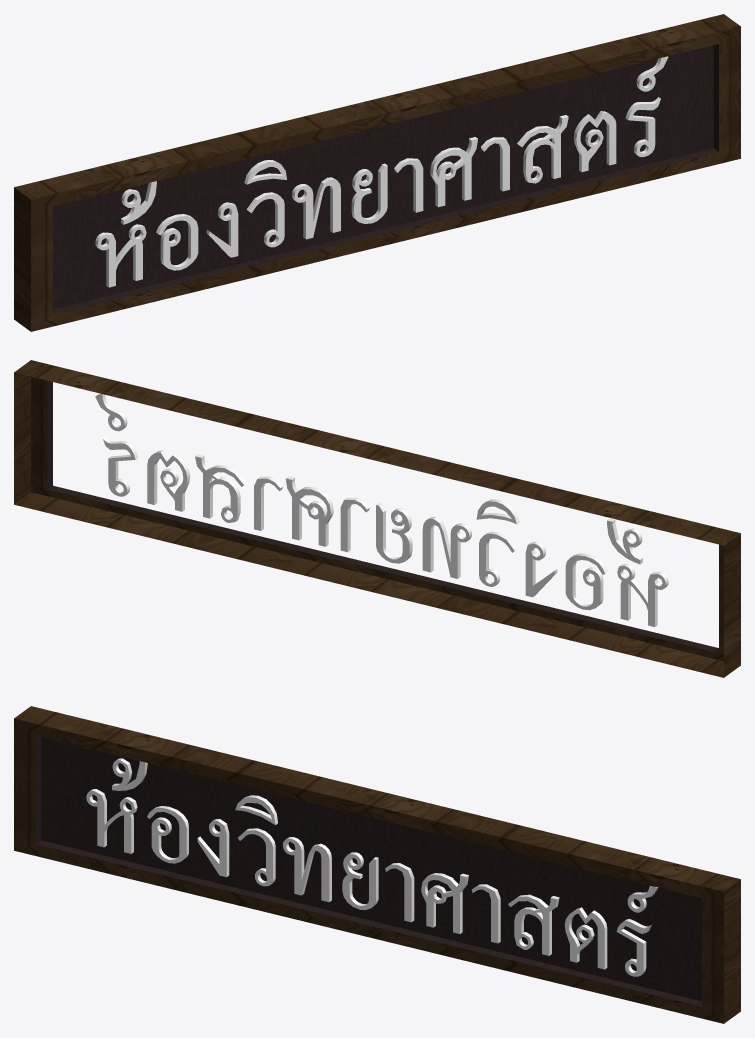
File: _sci_sign_Export1.fbx
3 renders of one model, top to bottom at view 1: azimuth 30°, elevation 25°; view 2: azimuth 150°, elevation 25°; view 3: azimuth 330°, elevation 25°, orthographic.
Parts seen in each view (by area): view 1: _sci_sign_Export1; view 2: _sci_sign_Export1; view 3: _sci_sign_Export1.
Boxes of the visible parts, x1=… form: _sci_sign_Export1: x1=14, y1=14, x2=740, y2=331; _sci_sign_Export1: x1=14, y1=360, x2=740, y2=677; _sci_sign_Export1: x1=14, y1=706, x2=740, y2=1023.
Bounding box in the file's own units: 26.9 × 4.79 × 1.12.
3 materials, 2 textured.
